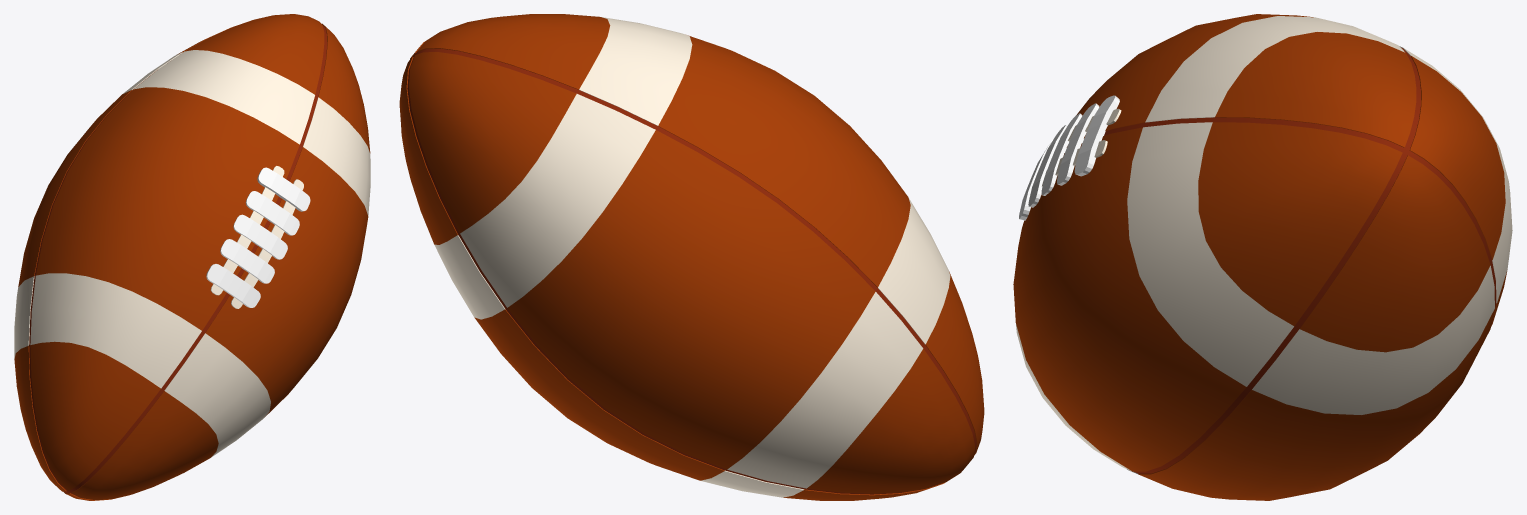
File: american_football.gltf
3 views of the same model, side by side, from view 1: azimuth 30°, elevation 25°; view 2: azimuth 150°, elevation 25°; view 3: azimuth 270°, elevation 25° (orthographic). The views are drawn at different scales.
Visible parts, largest first — view 1: Cube.812; view 2: Cube.812; view 3: Cube.812.
Part boxes in pixels (x1,y1,x2,y2): Cube.812: (14,14,370,500); Cube.812: (399,14,984,500); Cube.812: (1013,14,1512,500).
Bounding box in the file's own units: 2.3 × 2.15 × 1.81.
Materials: 1 (1 with a texture image).
